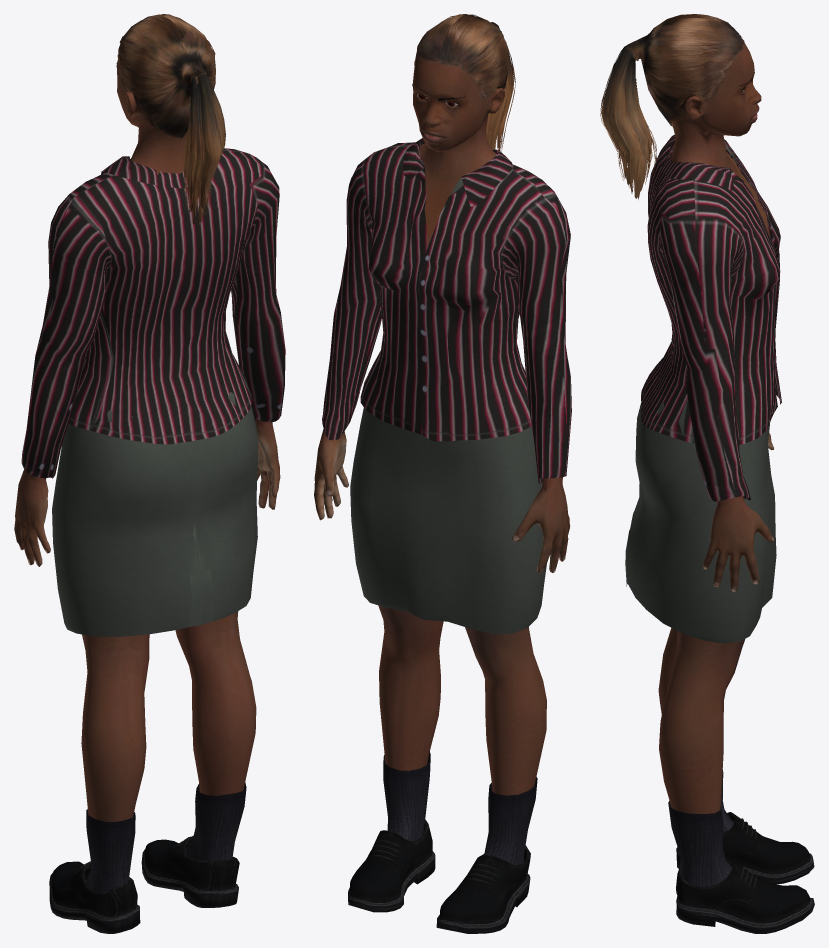
File: standing_1.gltf
3 views of the same model, side by side, from view 1: azimuth 30°, elevation 25°; view 2: azimuth 150°, elevation 25°; view 3: azimuth 270°, elevation 25° (orthographic). The views are drawn at different scales.
Parts seen in each view (by area): view 1: standing; view 2: standing; view 3: standing.
Boxes of the visible parts, left/top/right/bottom form: standing: left=14, top=14, right=285, bottom=933; standing: left=314, top=14, right=571, bottom=933; standing: left=600, top=14, right=814, bottom=933.
Bounding box in the file's own units: 0.484 × 1.65 × 0.365.
Materials: 6 (6 with a texture image).
